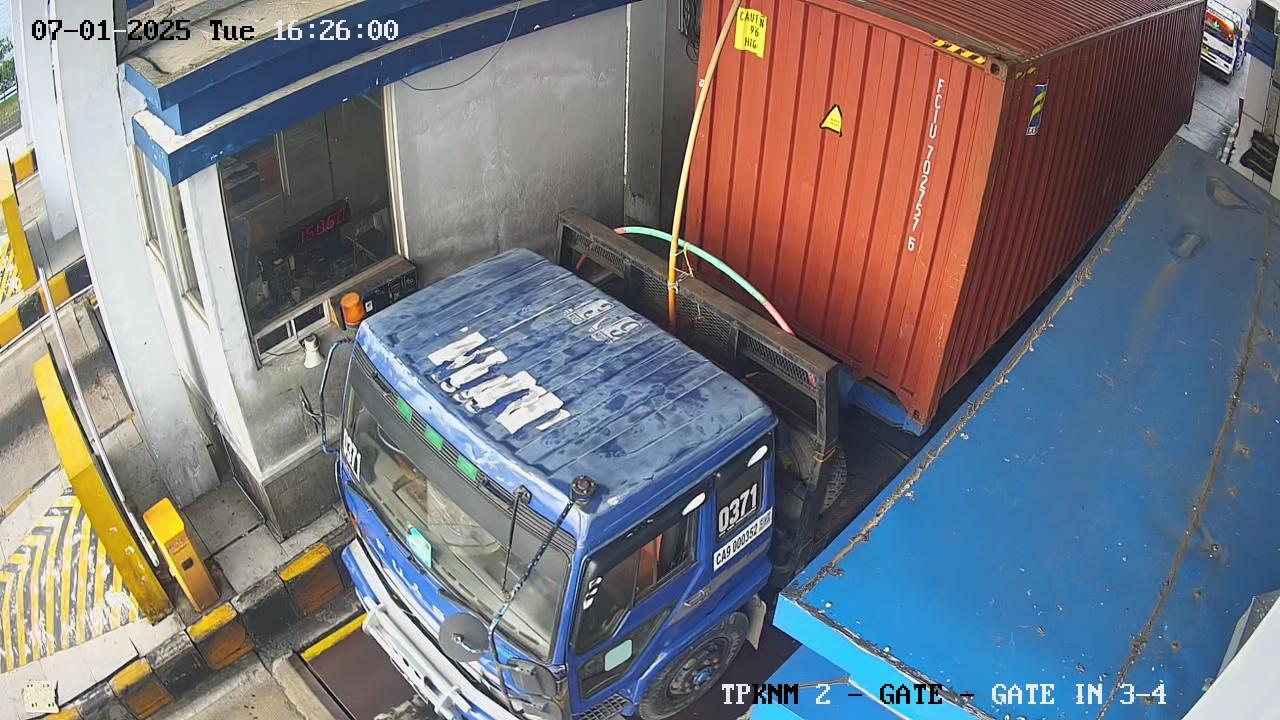Container_ID_Vertikal: (898, 77, 949, 252)
truck_id: (716, 464, 771, 547)
